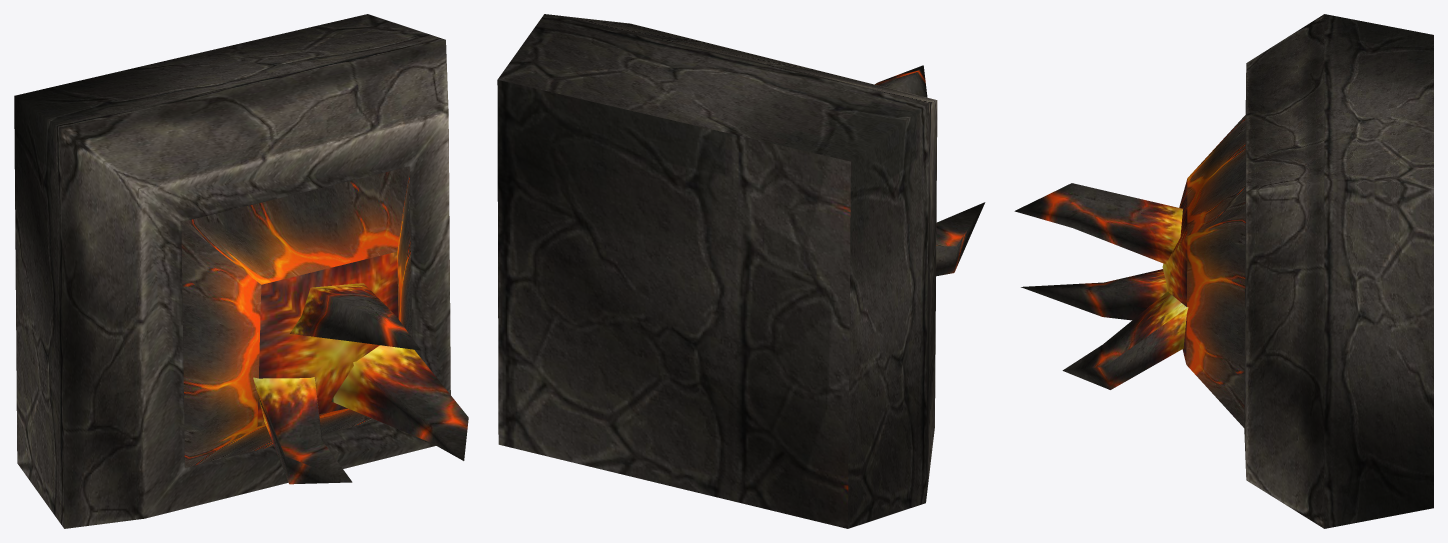
Rendered from Altar-misc-05.obj.
3 views of the same model, side by side, from view 1: azimuth 30°, elevation 25°; view 2: azimuth 150°, elevation 25°; view 3: azimuth 270°, elevation 25° (orthographic). The views are drawn at different scales.
Visible parts, largest first — view 1: (null); view 2: (null); view 3: (null).
Part boxes in pixels (<box>): (null): <box>14,14,468,528</box>; (null): <box>497,14,985,528</box>; (null): <box>1014,14,1433,528</box>.
Bounding box in the file's own units: 2.14 × 2.14 × 2.32.
